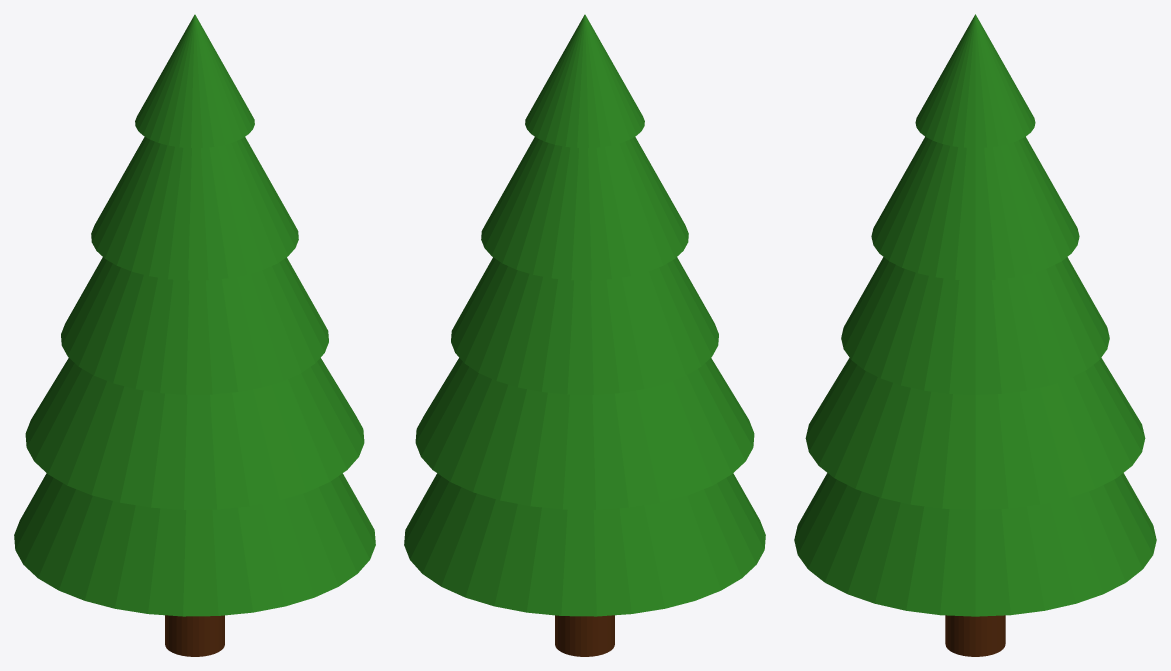
File: Tree.fbx
3 views of the same model, side by side, from view 1: azimuth 30°, elevation 25°; view 2: azimuth 150°, elevation 25°; view 3: azimuth 270°, elevation 25° (orthographic).
Visible parts, largest first — view 1: Tree; view 2: Tree; view 3: Tree.
Part boxes in pixels (x1=…): Tree: x1=14, y1=14, x2=375, y2=656; Tree: x1=404, y1=14, x2=765, y2=656; Tree: x1=794, y1=14, x2=1156, y2=656.
Bounding box in the file's own units: 604 × 1158 × 604.
